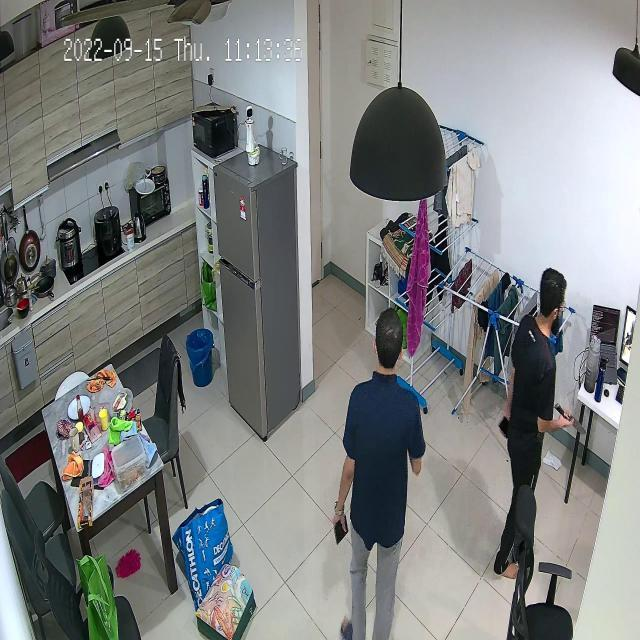Knife: (549, 395, 591, 439)
